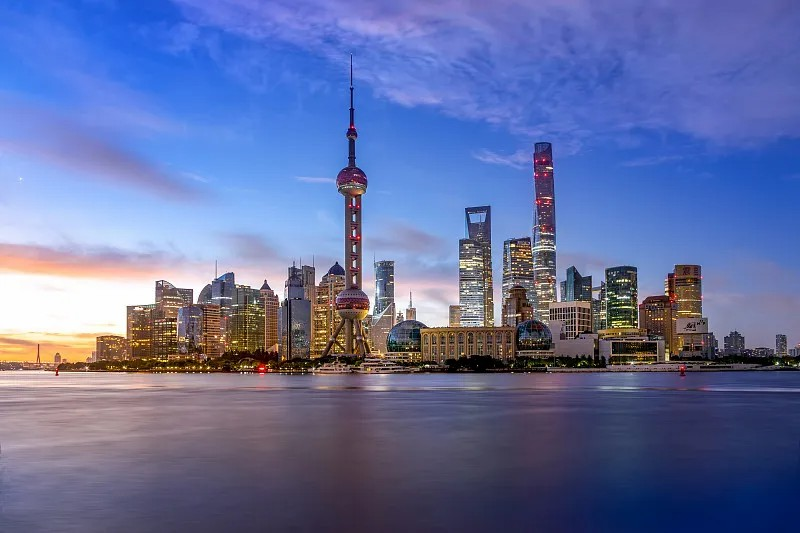Oriental: (321, 52, 373, 358)
